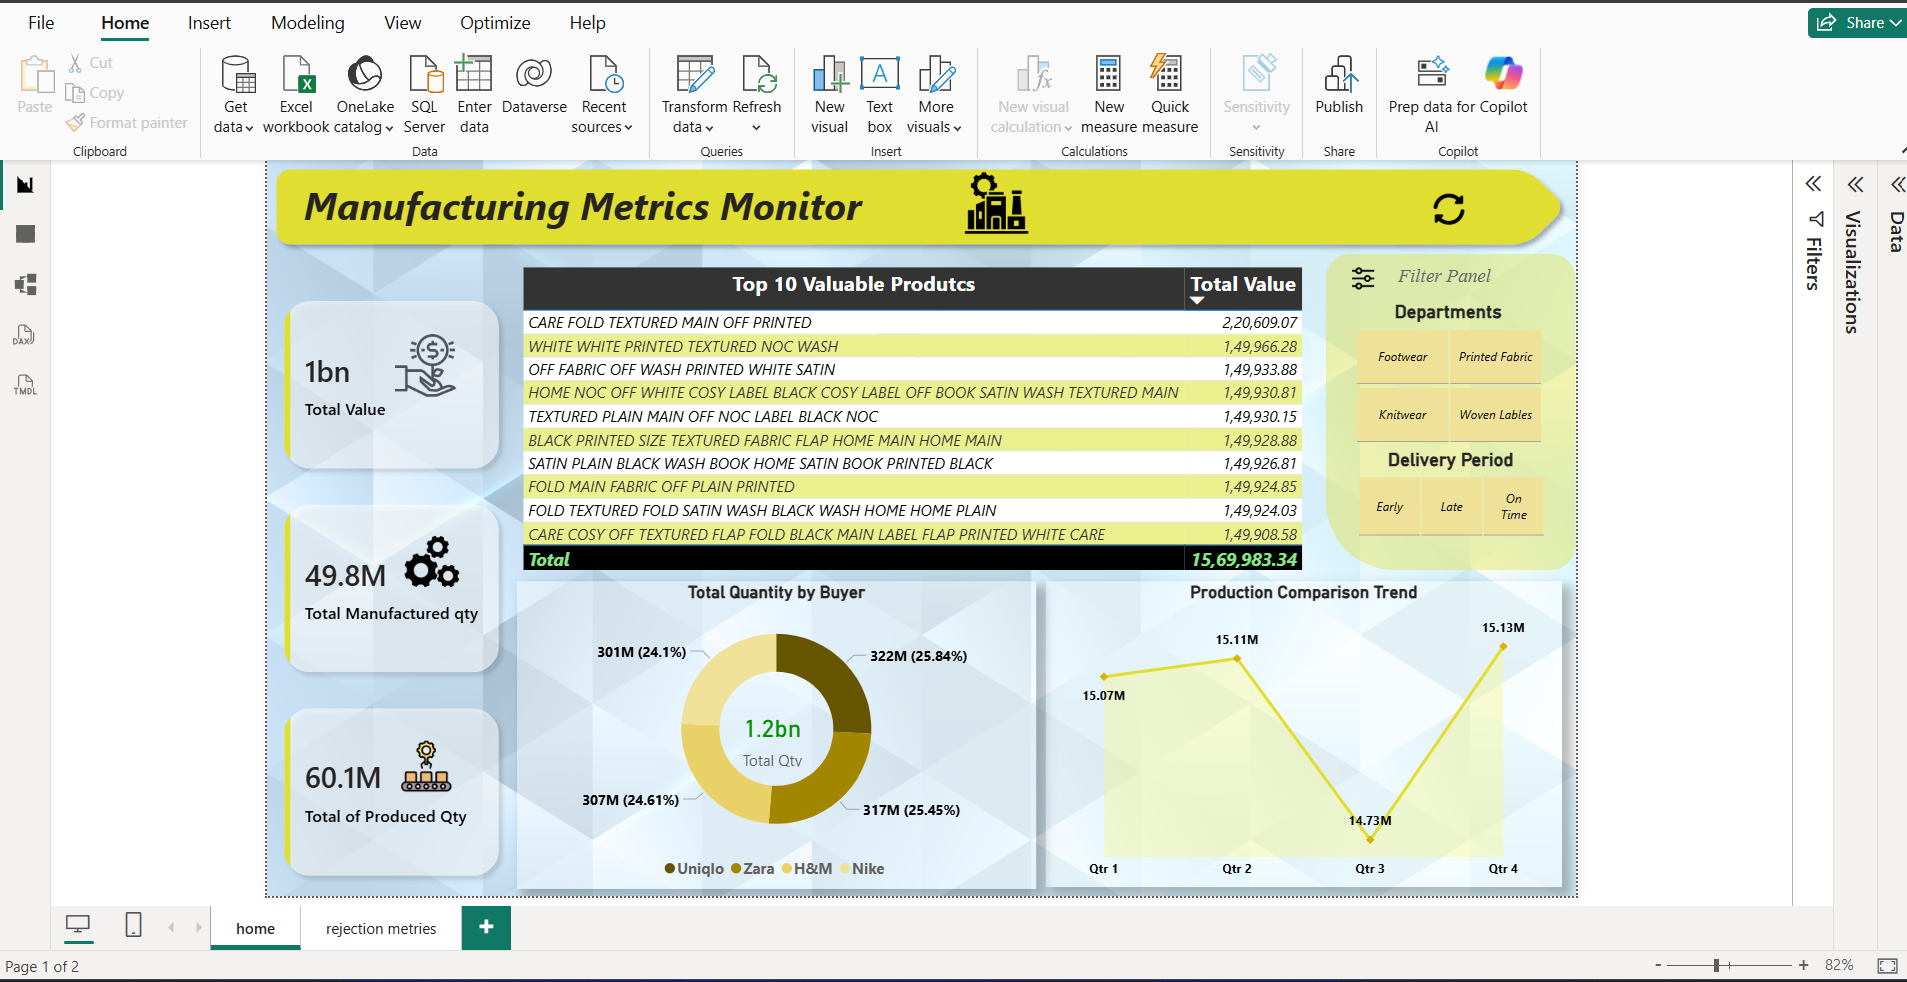

Layout of this report page (visuals, bound fields, positions):
{"tool":"powerbi","page":{"name":"home","canvas":[1280,720],"ordinal":0},"visuals":[{"type":"shape","box":[1035.7,91.7,244.6,309.4],"z":0},{"type":"shape","box":[0,0,1280.3,91.7],"z":1000},{"type":"textbox","box":[0,13.5,617.5,69.7],"z":2000},{"type":"donutChart","title":" Total Quantity by Buyer","fields":{"Category":["Sheet1.Buyer"],"Y":["Sum(Sheet1.TotalQty)"]},"box":[244.9,411.8,507.8,300.5],"z":3000},{"type":"cardVisual","fields":{"Data":["Sum(Sheet1.TotalValue)","Sum(Sheet1.today Manufactured qty)","Sum(Sheet1.Produced Qty)"]},"box":[0,121,244.9,598.3],"z":4000},{"type":"tableEx","fields":{"Values":["Sheet1.Item Name","Sum(Sheet1.TotalValue)"]},"box":[244.9,100.2,790.3,320],"z":5000},{"type":"slicer","title":"Departments","fields":{"Values":["Sheet1.Department Name"]},"box":[1045.5,138.2,220.1,144.3],"z":6000},{"type":"image","box":[587,4.9,254.3,74.6],"z":7000},{"type":"card","fields":{"Values":["Sum(Sheet1.TotalQty)"]},"box":[449.4,531.5,89,66.8],"z":8000},{"type":"image","box":[1129.9,28.1,52.6,40.4],"z":9000},{"type":"lineChart","title":" Production Comparison Trend","fields":{"Y":["Sum(Sheet1.Produced Qty)"],"Category":["Sheet1.Doc Date.Variation.Date Hierarchy.Year","Sheet1.Doc Date.Variation.Date Hierarchy.Quarter","Sheet1.Doc Date.Variation.Date Hierarchy.Month"]},"box":[762.4,411.8,505,299.1],"z":10000},{"type":"slicer","title":"Delivery Period","fields":{"Values":["Sheet1.Delivery Period"]},"box":[1048,282.5,220.1,91.7],"z":11000},{"type":"image","box":[1045.5,100.3,53.8,31.8],"z":12000},{"type":"textbox","box":[1101.8,97.8,108.8,37.9],"z":13000},{"type":"image","box":[107.1,360.3,107.1,64],"z":14000},{"type":"image","box":[96,562.1,118.3,61.2],"z":15000},{"type":"image","box":[95.4,155.3,118.6,91.7],"z":16000}]}

Visuals, with their boxes on the page's 1280x720 design canvas (x1, y1, x2, y2). These are canvas units, not pixel positions in the 1907x982 screenshot, which may show the page scaled, cropped or inside an application window:
shape: <bbox>1036, 92, 1280, 401</bbox>
shape: <bbox>0, 0, 1280, 92</bbox>
textbox: <bbox>0, 14, 618, 83</bbox>
" Total Quantity by Buyer" donutChart: <bbox>245, 412, 753, 712</bbox>
cardVisual - Sum(Sheet1.TotalValue) x Sum(Sheet1.today Manufactured qty): <bbox>0, 121, 245, 719</bbox>
tableEx - Sheet1.Item Name x Sum(Sheet1.TotalValue): <bbox>245, 100, 1035, 420</bbox>
"Departments" slicer: <bbox>1046, 138, 1266, 282</bbox>
image: <bbox>587, 5, 841, 80</bbox>
card - Sum(Sheet1.TotalQty): <bbox>449, 532, 538, 598</bbox>
image: <bbox>1130, 28, 1182, 68</bbox>
" Production Comparison Trend" lineChart: <bbox>762, 412, 1267, 711</bbox>
"Delivery Period" slicer: <bbox>1048, 282, 1268, 374</bbox>
image: <bbox>1046, 100, 1099, 132</bbox>
textbox: <bbox>1102, 98, 1211, 136</bbox>
image: <bbox>107, 360, 214, 424</bbox>
image: <bbox>96, 562, 214, 623</bbox>
image: <bbox>95, 155, 214, 247</bbox>
